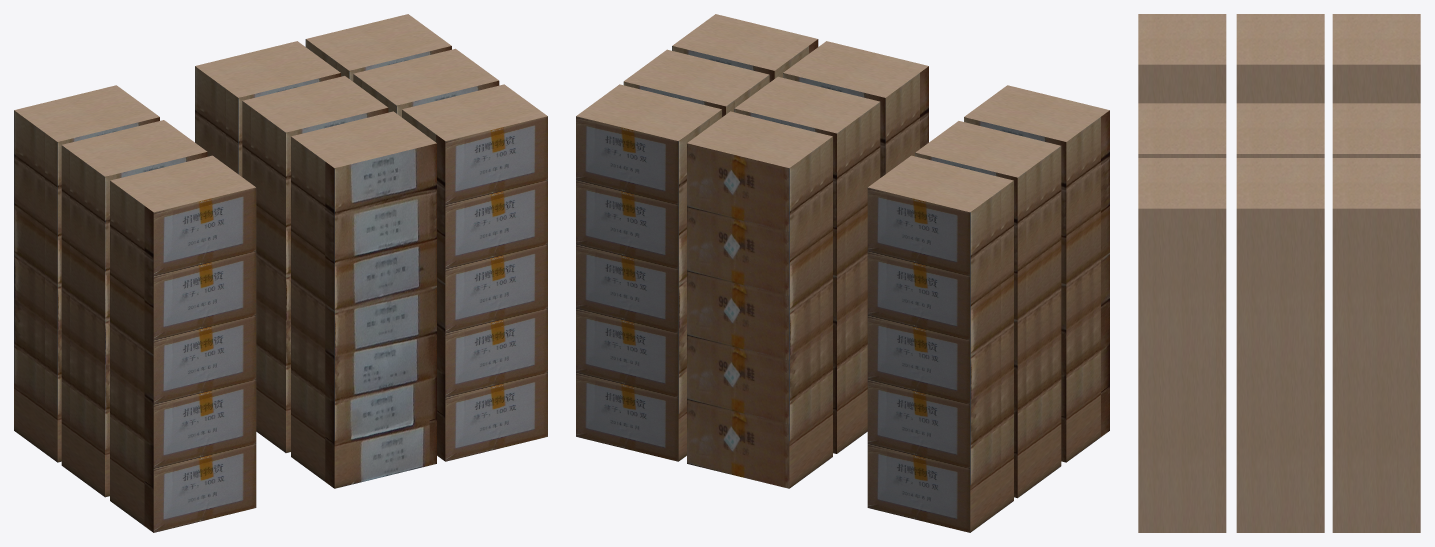
Rendered from wazi.FBX.
The picture shows the model from 3 angles, left to right: view 1: azimuth 30°, elevation 25°; view 2: azimuth 150°, elevation 25°; view 3: azimuth 270°, elevation 25°; orthographic projection.
Visible parts, largest first — view 1: Box3842, 对象34; view 2: Box3842, 对象34; view 3: Box3842, 对象34.
Boxes of the visible parts, x1,y1,x2,y2 form: Box3842: (14,14,547,532); 对象34: (195,41,436,488); Box3842: (576,14,1109,532); 对象34: (687,41,928,488); Box3842: (1138,14,1420,532); 对象34: (1138,103,1420,157).
Size of the model in its own units: 1.51 by 0.926 by 1.17.
